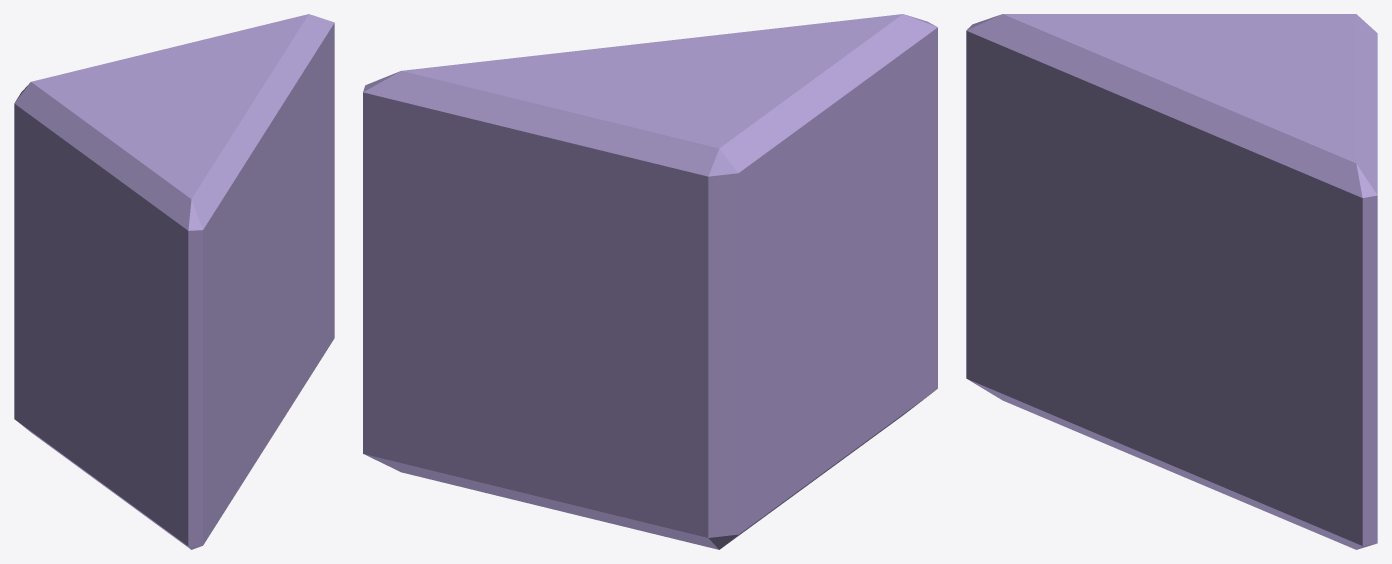
File: tile_tri.fbx
The picture shows the model from 3 angles, left to right: view 1: azimuth 30°, elevation 25°; view 2: azimuth 150°, elevation 25°; view 3: azimuth 270°, elevation 25°; orthographic projection. The views are drawn at different scales.
Visible parts, largest first — view 1: pCube1; view 2: pCube1; view 3: pCube1.
Boxes of the visible parts, left/top/right/bottom form: pCube1: left=14, top=14, right=334, bottom=549; pCube1: left=363, top=14, right=937, bottom=549; pCube1: left=966, top=14, right=1377, bottom=549.
Bounding box in the file's own units: 9.65 × 10 × 9.65.
